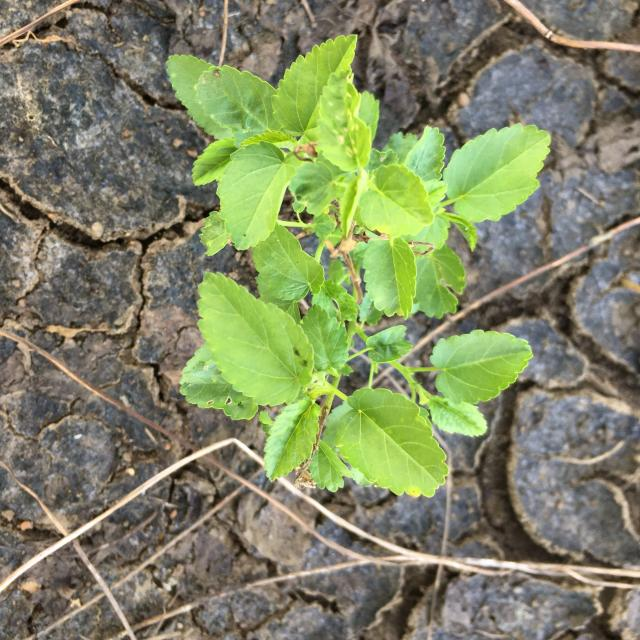PricklySida: (165, 34, 552, 498)
